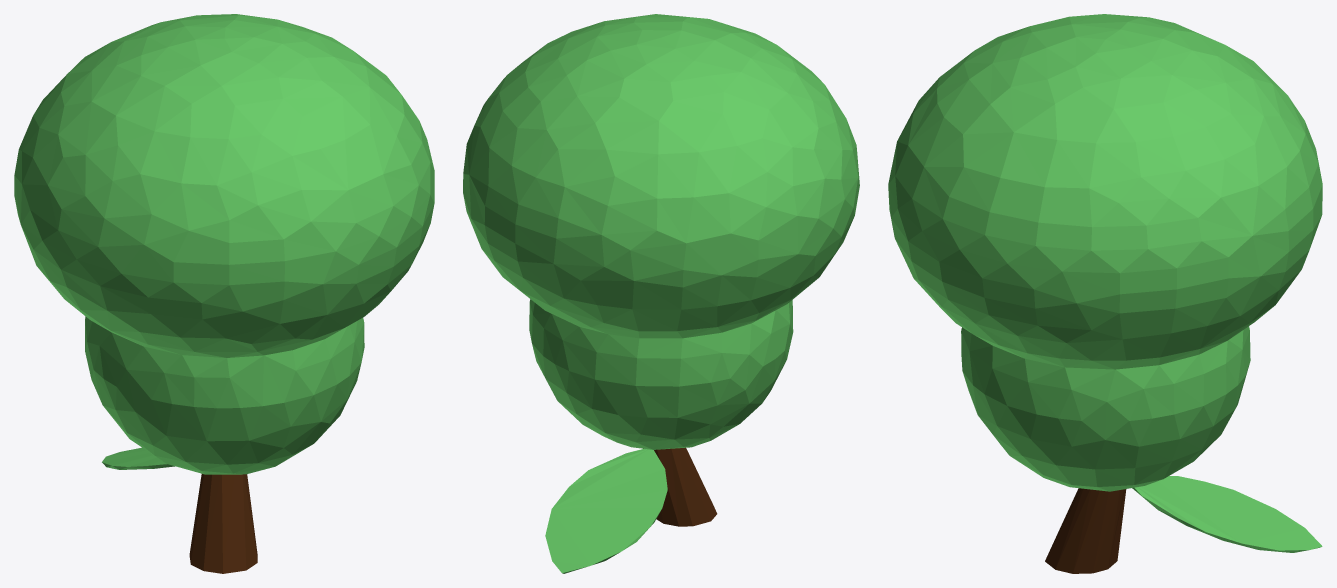
Rendered from pomelo.fbx.
3 renders of one model, left to right at view 1: azimuth 30°, elevation 25°; view 2: azimuth 150°, elevation 25°; view 3: azimuth 270°, elevation 25°, orthographic. The views are drawn at different scales.
Visible parts, largest first — view 1: 零件5; view 2: 零件5; view 3: 零件5.
Boxes of the visible parts, box(x1,y1,x2,y2) form: 零件5: box(14, 14, 434, 573); 零件5: box(463, 14, 859, 573); 零件5: box(888, 14, 1322, 573).
Bounding box in the file's own units: 8992 × 12000 × 8990.
